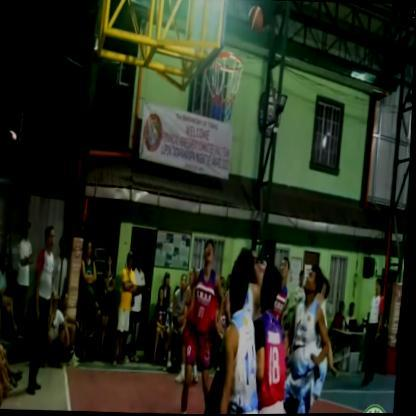basketball: (244, 7, 267, 37)
rim: (199, 50, 248, 135)
